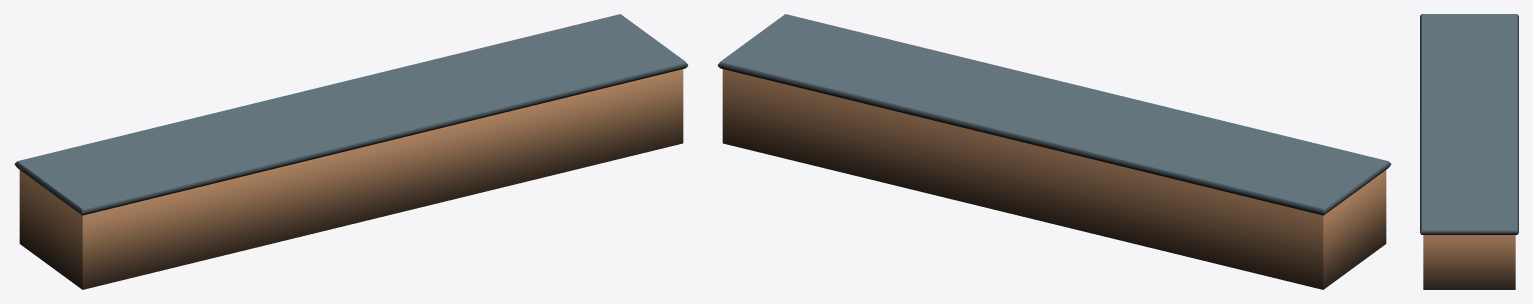
Rendered from Countertop_Isle.fbx.
3 renders of one model, left to right at view 1: azimuth 30°, elevation 25°; view 2: azimuth 150°, elevation 25°; view 3: azimuth 270°, elevation 25°, orthographic. The views are drawn at different scales.
Parts seen in each view (by area): view 1: Countertop Module; view 2: Countertop Module; view 3: Countertop Module.
Boxes of the visible parts, left/top/right/bottom form: Countertop Module: left=14, top=14, right=688, bottom=289; Countertop Module: left=717, top=14, right=1391, bottom=289; Countertop Module: left=1420, top=14, right=1518, bottom=289.
Bounding box in the file's own units: 687 × 89 × 132.
1 material, 1 textured.
